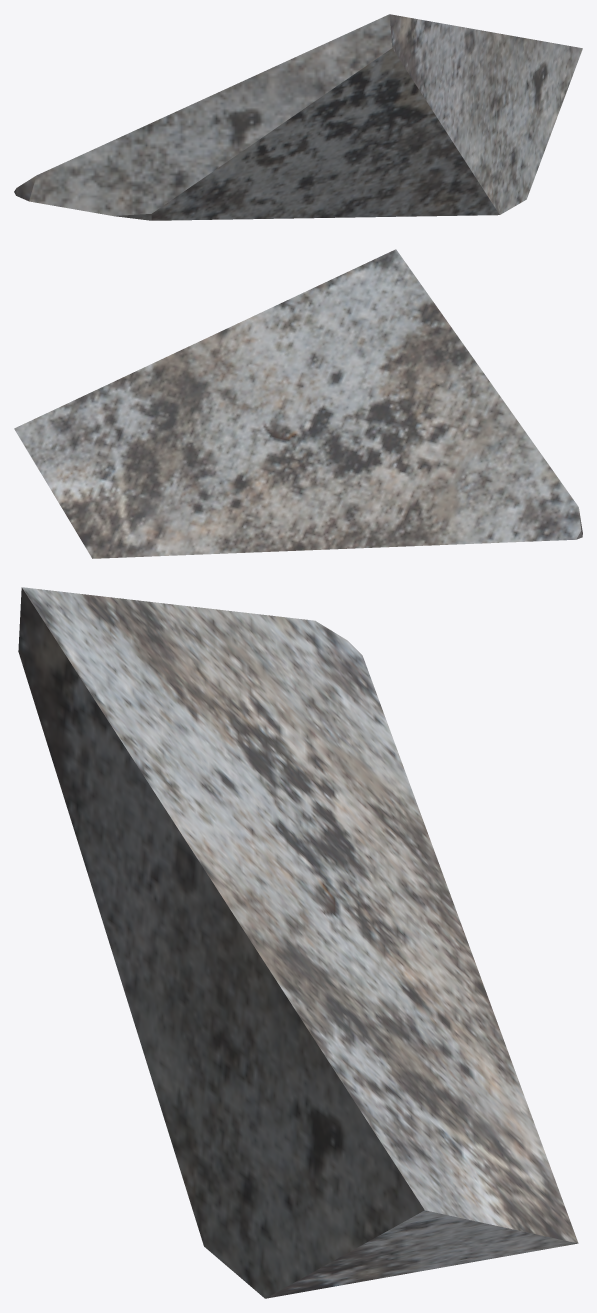
Rendered from Asteroid_Large_001_02_009_03_001.fbx.
The picture shows the model from 3 angles, top to bottom: view 1: azimuth 30°, elevation 25°; view 2: azimuth 150°, elevation 25°; view 3: azimuth 270°, elevation 25°; orthographic projection. The views are drawn at different scales.
Parts seen in each view (by area): view 1: Asteroid_Large_001_02_009_03_001; view 2: Asteroid_Large_001_02_009_03_001; view 3: Asteroid_Large_001_02_009_03_001.
Boxes of the visible parts, x1,y1,x2,y2 form: Asteroid_Large_001_02_009_03_001: (14, 14, 582, 220); Asteroid_Large_001_02_009_03_001: (14, 249, 582, 558); Asteroid_Large_001_02_009_03_001: (18, 587, 578, 1298).
Bounding box in the file's own units: 12.23 × 5.62 × 5.41.
